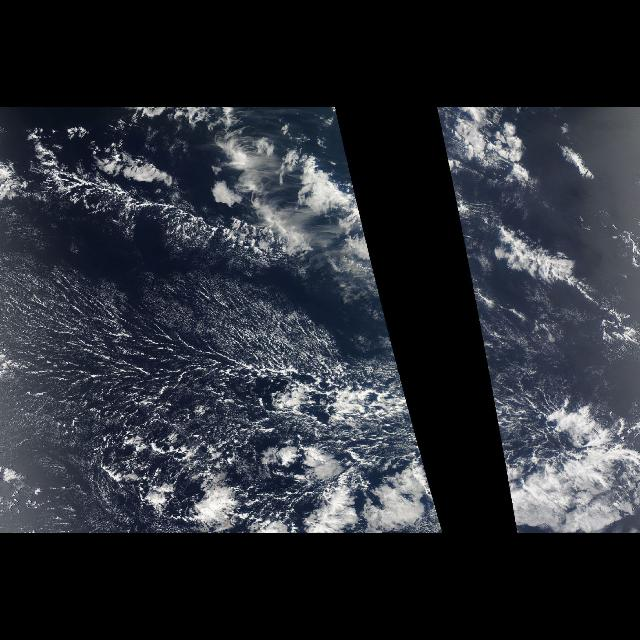Fish: (7, 262, 441, 526), (468, 262, 624, 526), (19, 130, 288, 256)
Gravel: (79, 372, 444, 530), (488, 372, 634, 530)
Sugar: (11, 269, 341, 443)
